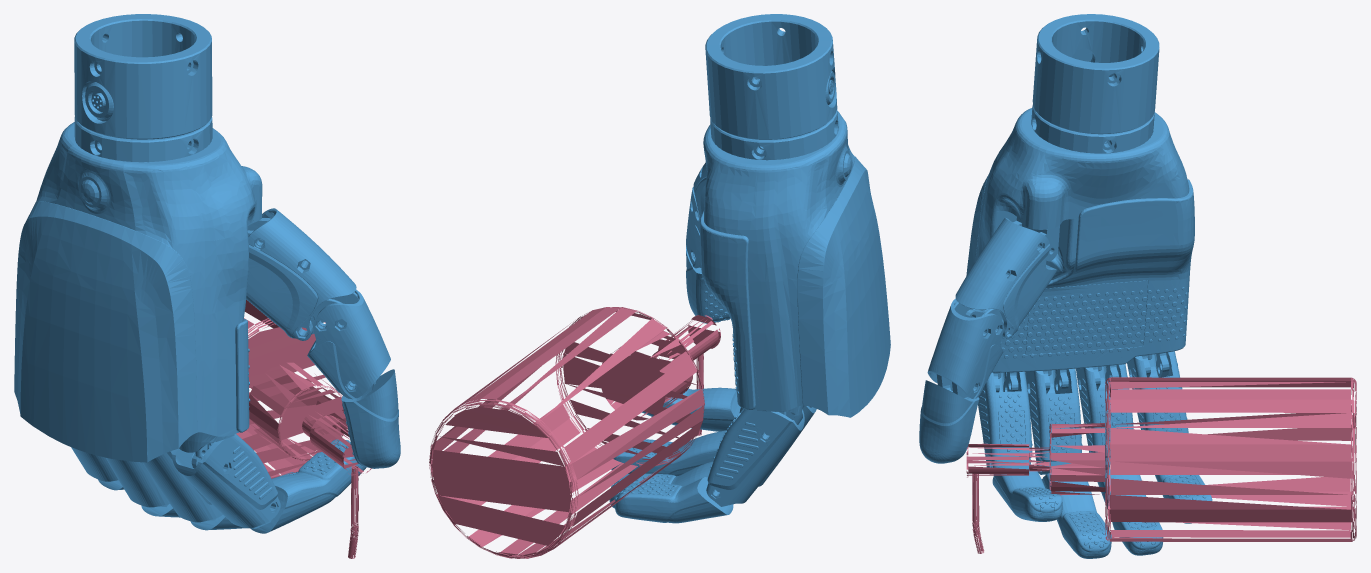
3 renders of one model, left to right at view 1: azimuth 30°, elevation 25°; view 2: azimuth 150°, elevation 25°; view 3: azimuth 270°, elevation 25°, orthographic. The views are drawn at different scales.
Parts seen in each view (by area): view 1: 0; view 2: 0; view 3: 0.
Part boxes in pixels (bbox=[...]): 0: bbox=[14, 14, 400, 558]; 0: bbox=[429, 14, 890, 558]; 0: bbox=[919, 14, 1356, 558].
Bounding box in the file's own units: 0.1375 × 0.2065 × 0.1781.
